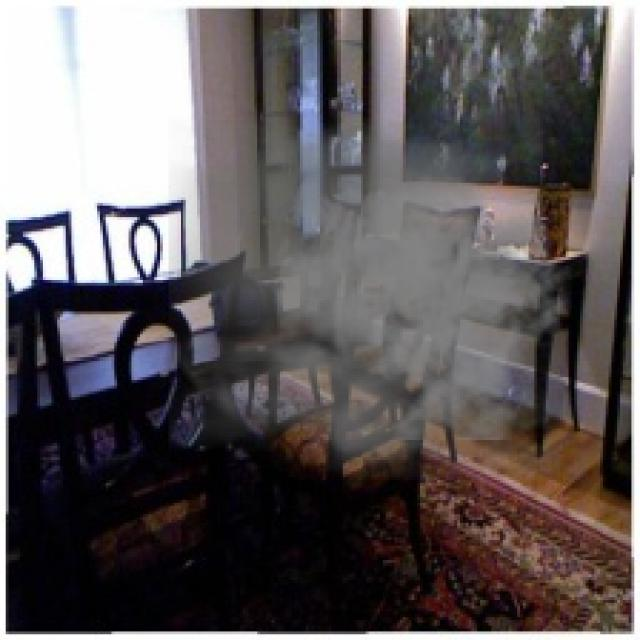smoke: (169, 117, 574, 480)
